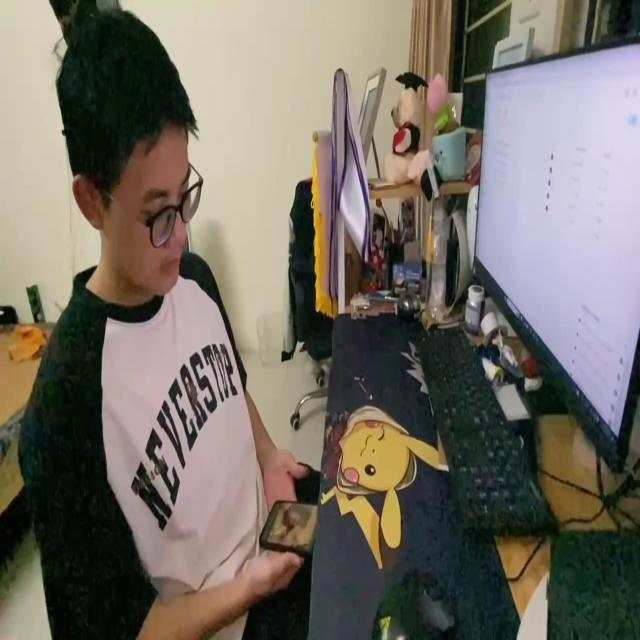laptop: (469, 28, 640, 476)
phone: (258, 494, 316, 553)
student: (23, 9, 307, 640)
